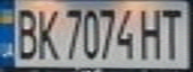0: (78, 4, 100, 61)
4: (115, 3, 139, 60)
7: (97, 4, 118, 61), (60, 4, 81, 61)
B: (9, 3, 42, 61)
H: (136, 3, 166, 61)
K: (33, 3, 60, 61)
T: (157, 4, 187, 60)
